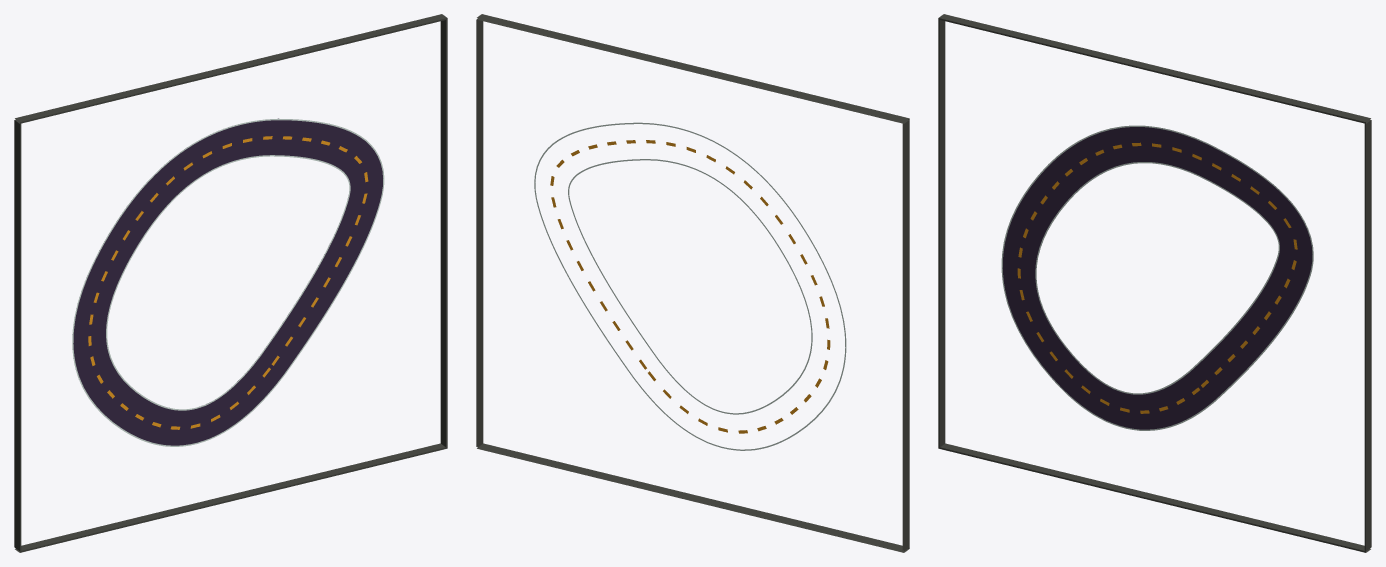
Rendered from track.obj.
3 renders of one model, left to right at view 1: azimuth 30°, elevation 25°; view 2: azimuth 150°, elevation 25°; view 3: azimuth 330°, elevation 25°, orthographic.
Bounding box in the file's own units: 13.7 × 13.18 × 0.3.
4 materials, 4 textured.
